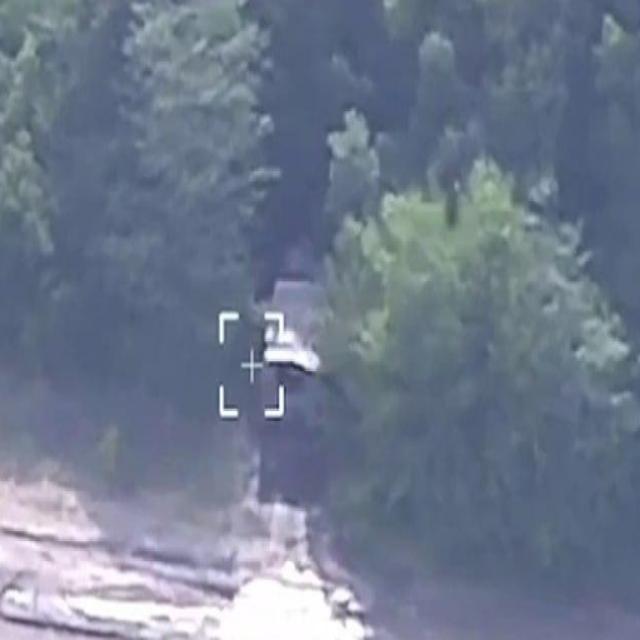TRUCK: (245, 258, 339, 442)
